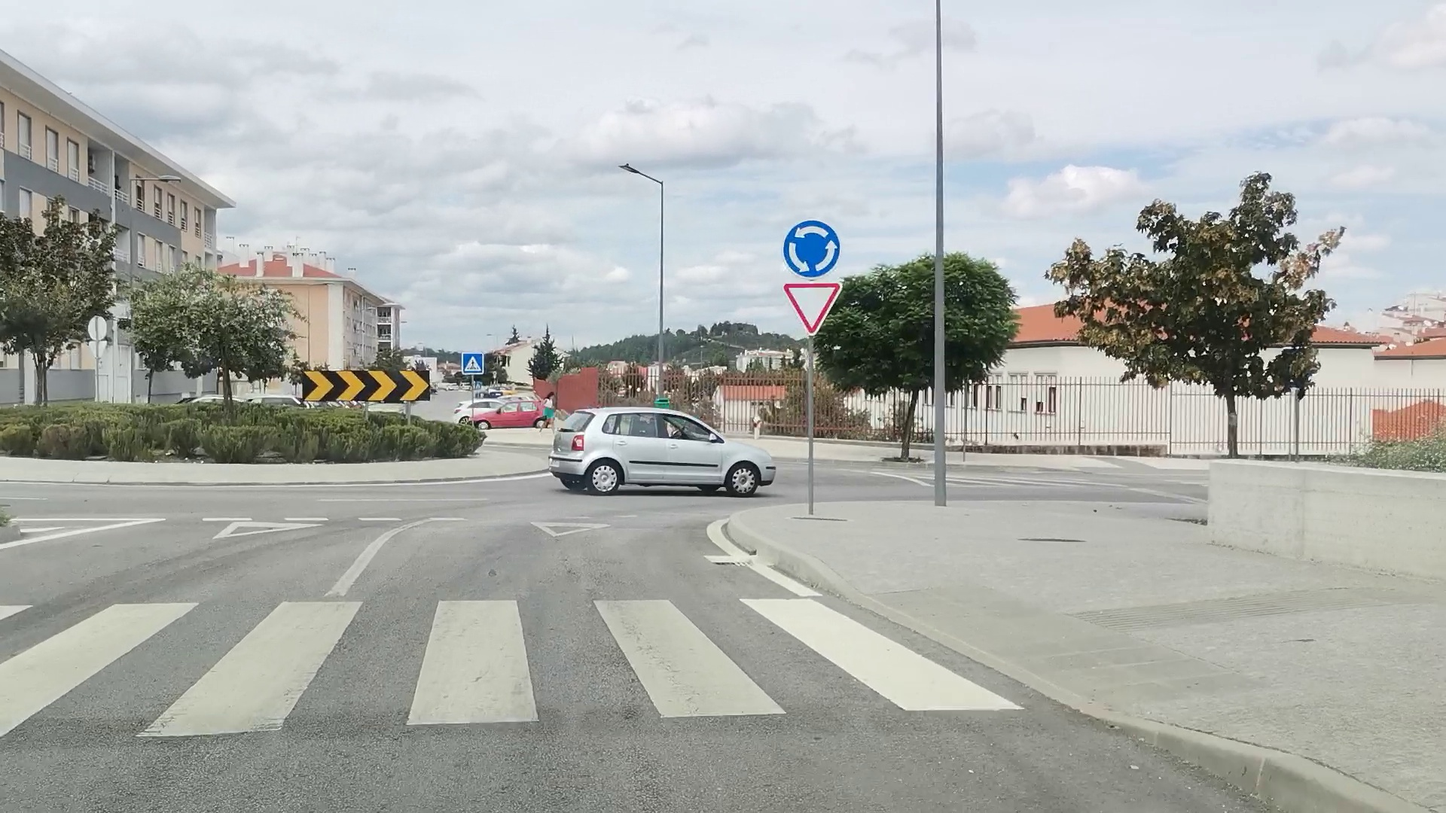Stairs: (0, 593, 1028, 739)
